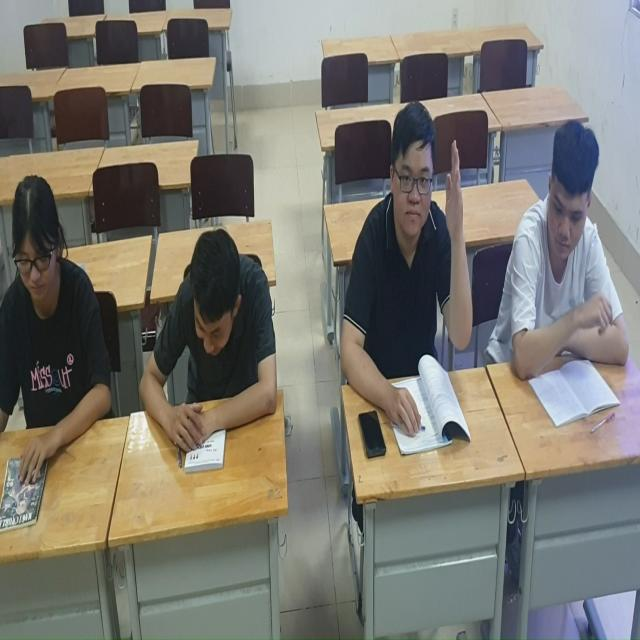raise_hand: (325, 111, 490, 455)
read: (1, 177, 114, 536), (497, 117, 613, 424), (139, 232, 283, 473)
